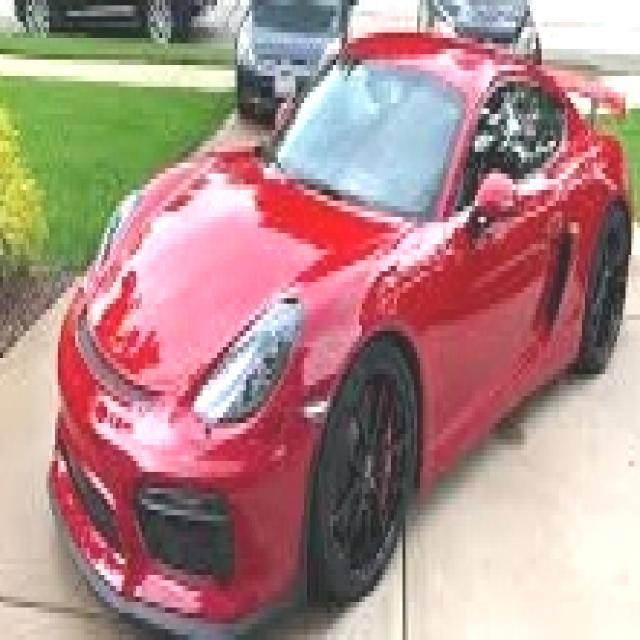red: (53, 42, 629, 627)
